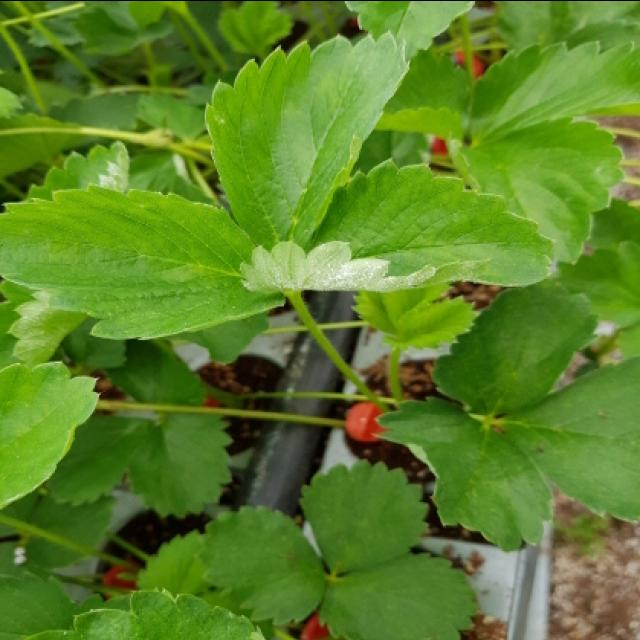Powdery Mildew Leaf: (240, 153, 554, 295), (0, 138, 134, 371)
